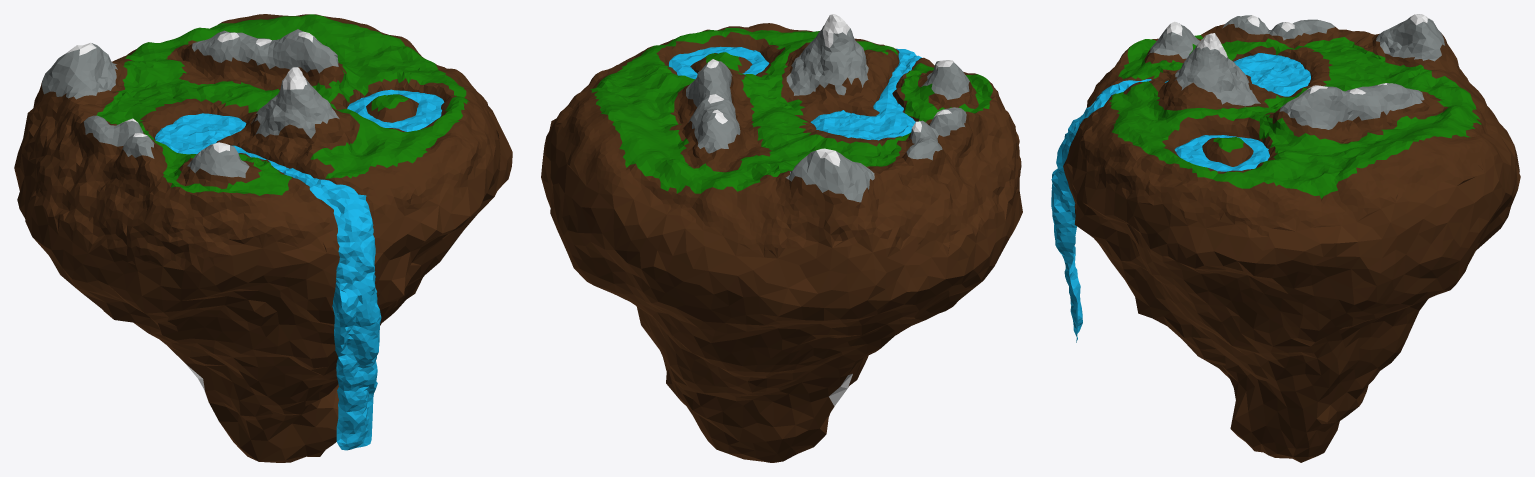
Rendered from Hauptwelt2.fbx.
3 views of the same model, side by side, from view 1: azimuth 30°, elevation 25°; view 2: azimuth 150°, elevation 25°; view 3: azimuth 270°, elevation 25° (orthographic). The views are drawn at different scales.
Visible parts, largest first — view 1: Icosphere, Plane; view 2: Icosphere, Plane; view 3: Icosphere, Plane.
Part boxes in pixels (x1=…): Icosphere: x1=14, y1=14, x2=512, y2=462; Plane: x1=155, y1=89, x2=444, y2=450; Icosphere: x1=541, y1=14, x2=1022, y2=462; Plane: x1=669, y1=46, x2=921, y2=140; Icosphere: x1=1063, y1=14, x2=1520, y2=462; Plane: x1=1051, y1=53, x2=1310, y2=342.
Bounding box in the file's own units: 75202 × 72020 × 75295.
